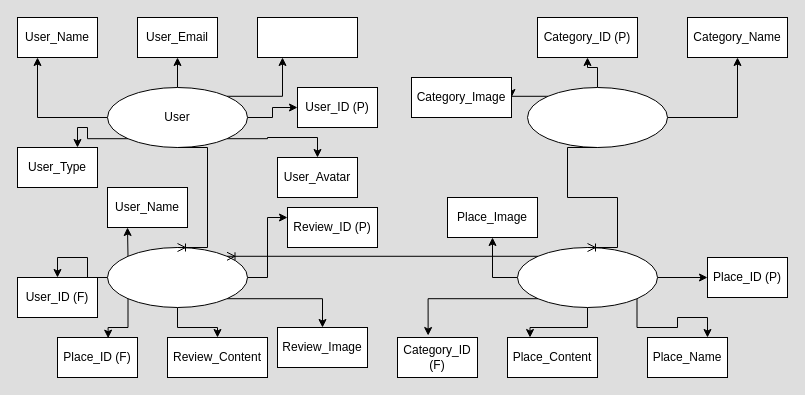
The diagram is 805 pixels wide and 395 high, and some of its shapes have lost their labels. Each missing label, with the box of its shape:
Category: (526, 86, 668, 148)
Place: (516, 246, 658, 308)
Review: (106, 246, 248, 308)
User_Password: (256, 16, 358, 58)
